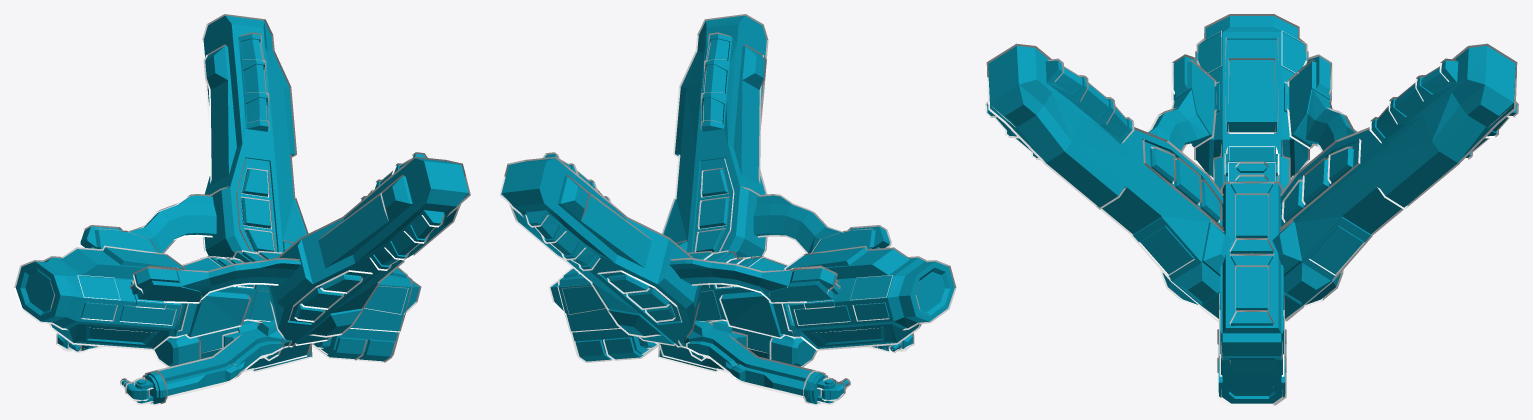
File: ship6blue.glb
The picture shows the model from 3 angles, left to right: view 1: azimuth 30°, elevation 25°; view 2: azimuth 150°, elevation 25°; view 3: azimuth 270°, elevation 25°; orthographic projection. The views are drawn at different scales.
Parts seen in each view (by area): view 1: ME_ship_IndexedFaceSet; view 2: ME_ship_IndexedFaceSet; view 3: ME_ship_IndexedFaceSet.
Part boxes in pixels (x1,y1,x2,y2): ME_ship_IndexedFaceSet: [14, 14, 470, 405]; ME_ship_IndexedFaceSet: [499, 14, 956, 405]; ME_ship_IndexedFaceSet: [985, 14, 1518, 405].
Bounding box in the file's own units: 484 × 344 × 500.
